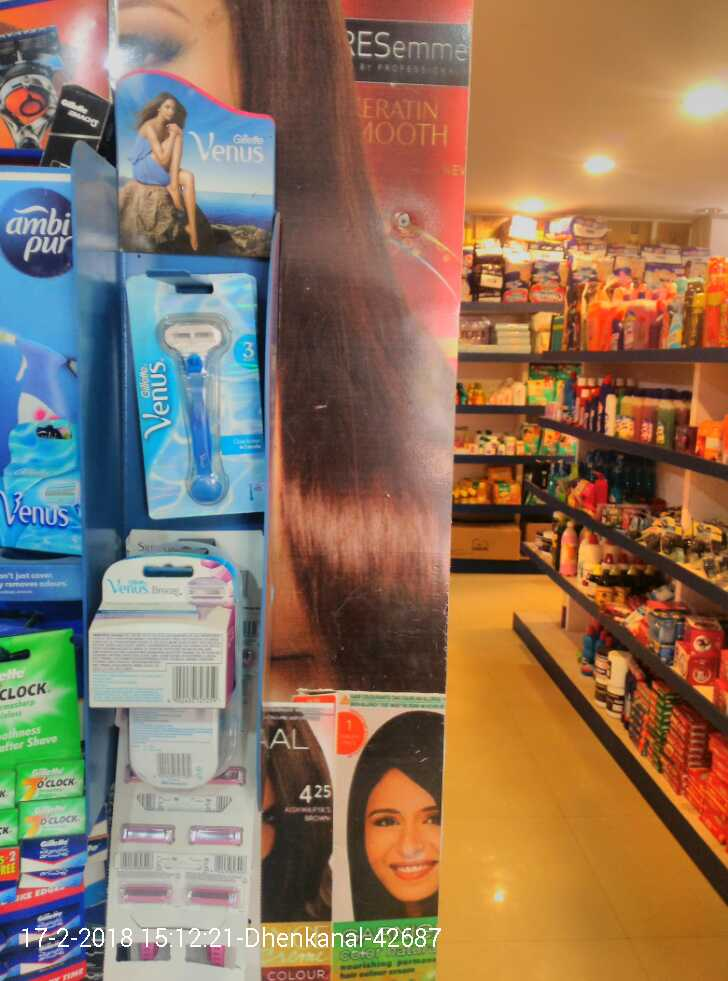venus: (124, 264, 273, 507), (2, 422, 96, 561)
